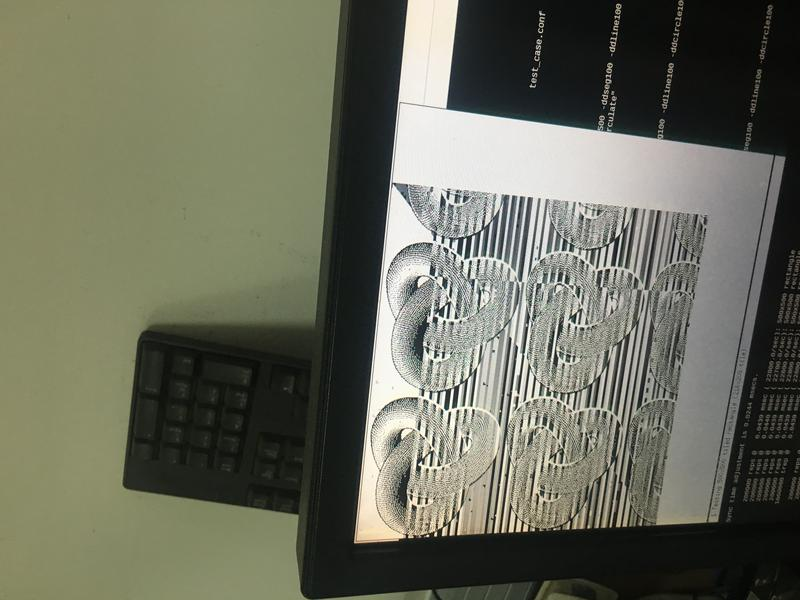xrandr_pass: (354, 98, 784, 544)
